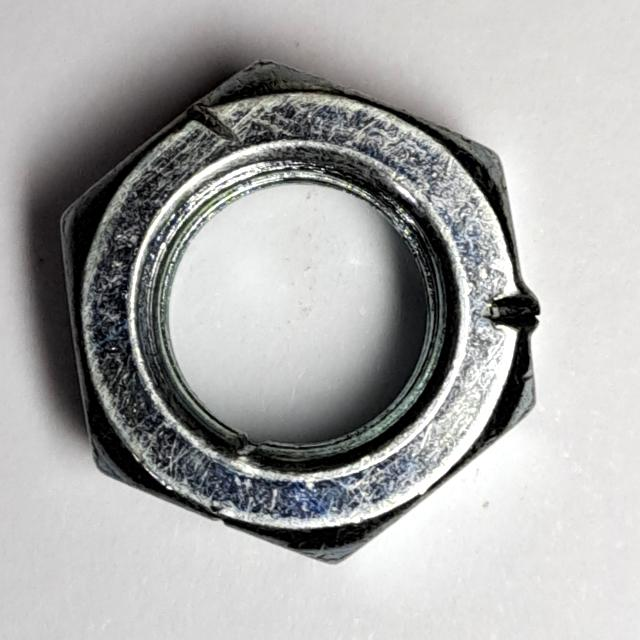Scratches: (45, 38, 560, 585)
